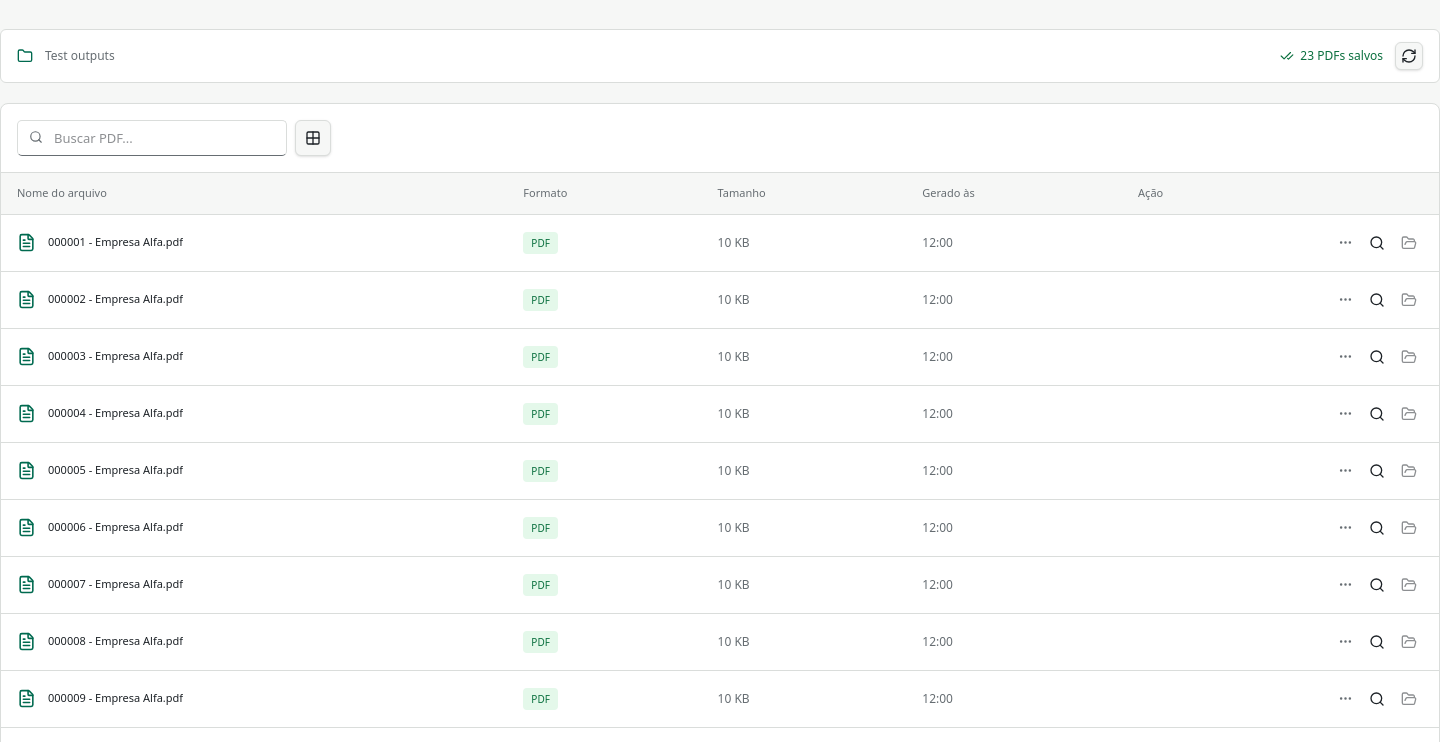
Test: Output pagination › resets pagination when searching, clearing or changing page size, including no results
Earlier steps of the test are not shown.
Type "Alfa" into the search field named "Buscar arquivos PDF" at (152, 138), box 17,120 -> 287,156
(page scrolled)
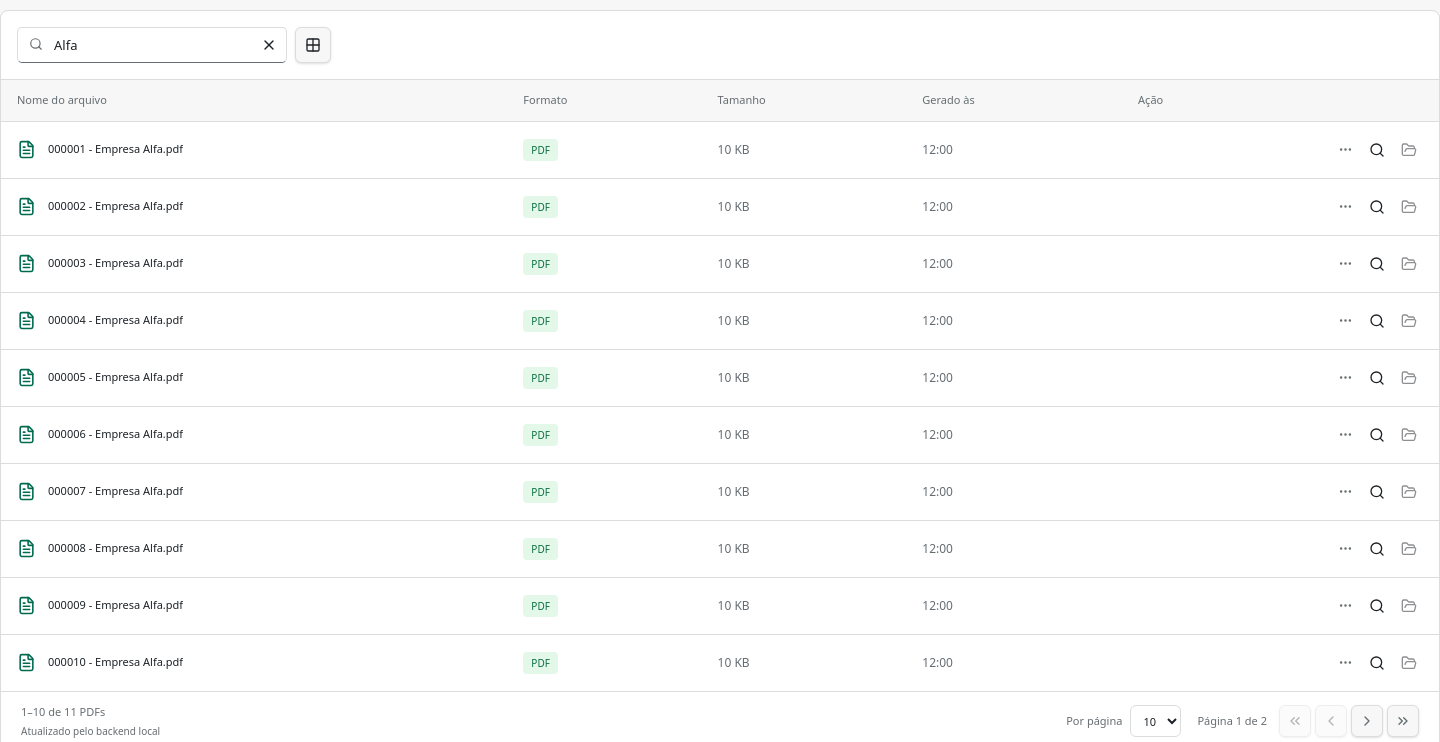
Click the button named "Próxima página" at (1367, 721), box 1351,705 -> 1383,737
(page scrolled)
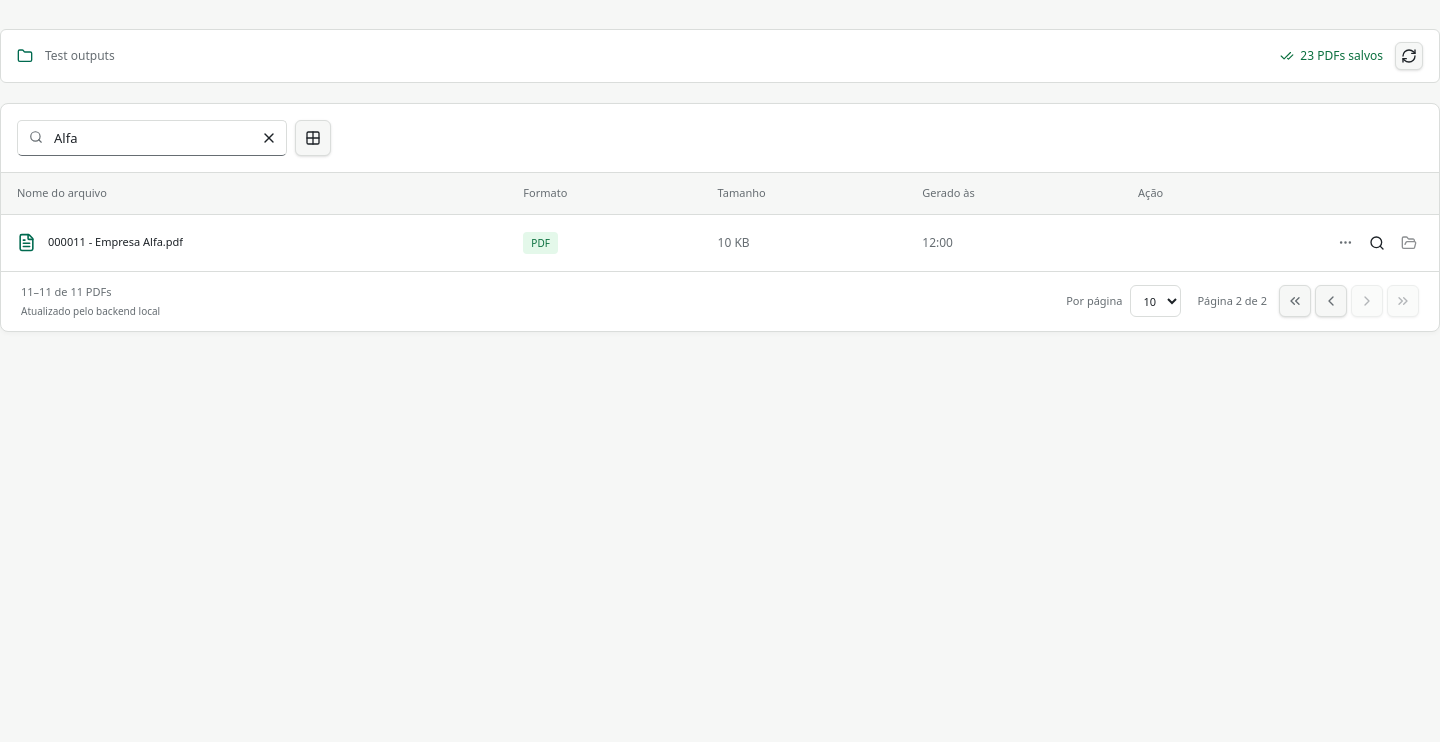
Press Escape in the search field named "Buscar arquivos PDF", box 17,120 -> 287,156
(page scrolled)
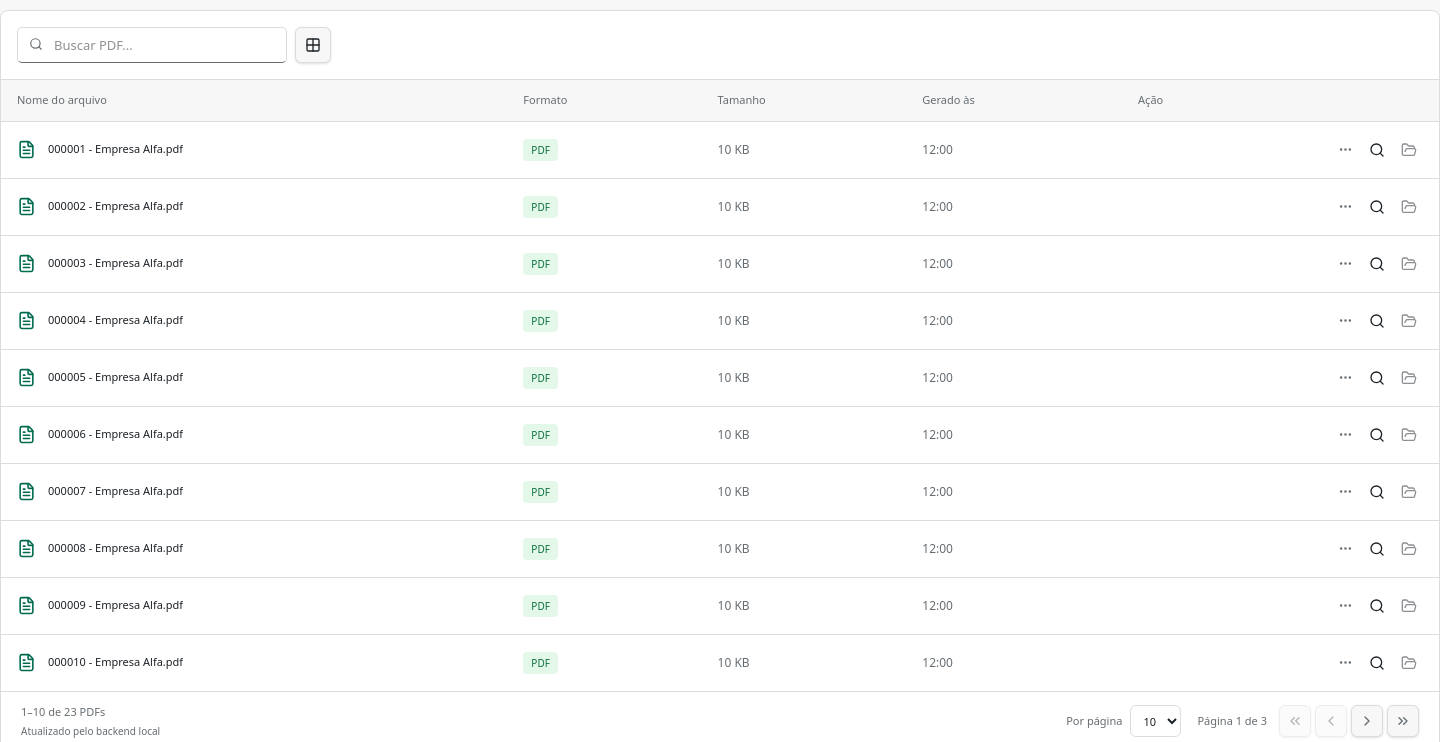
Now the text "1–10 de 23 PDFs" is shown, box 21,704 -> 105,718
Click the button named "Última página" at (1403, 721), box 1387,705 -> 1419,737
(page scrolled)
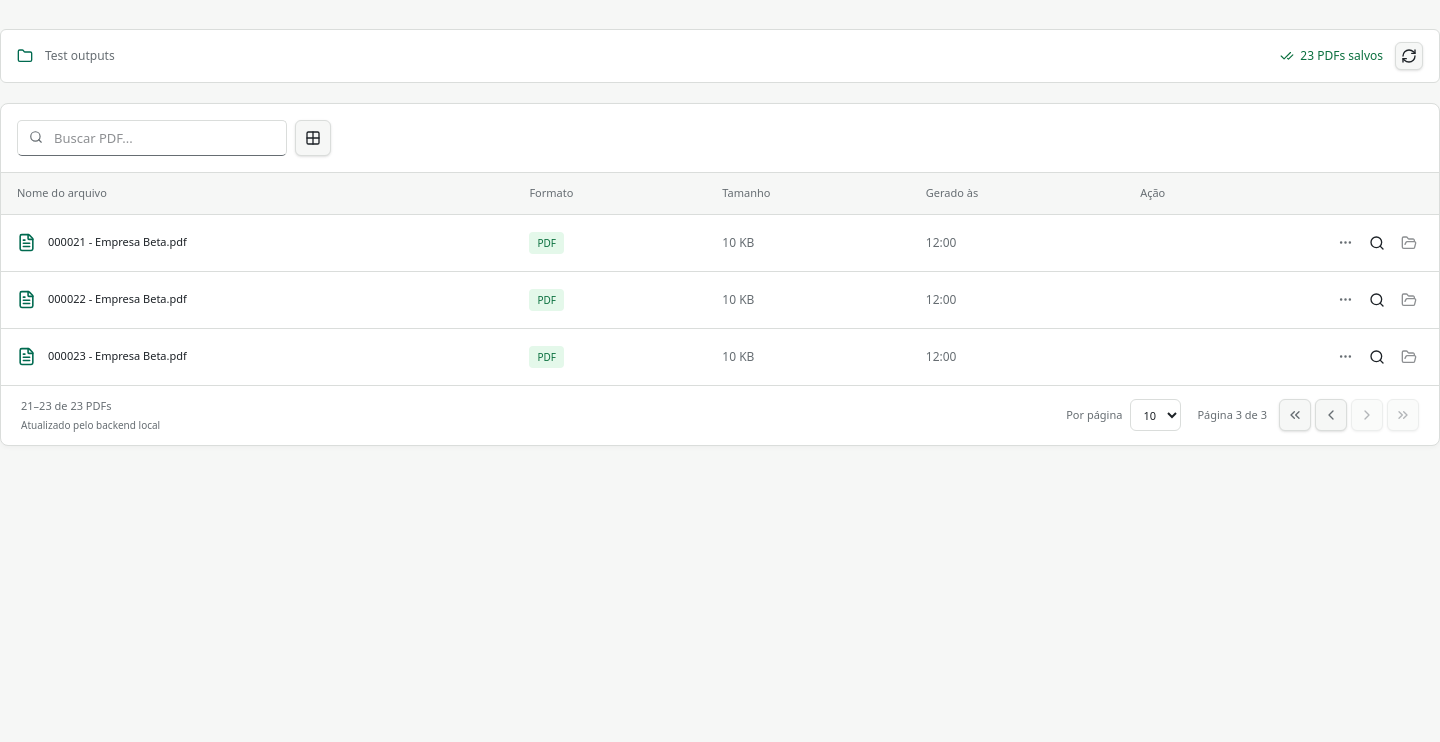
Select "25" in the dropdown named "Arquivos por página" at (1156, 415), box 1130,399 -> 1181,431
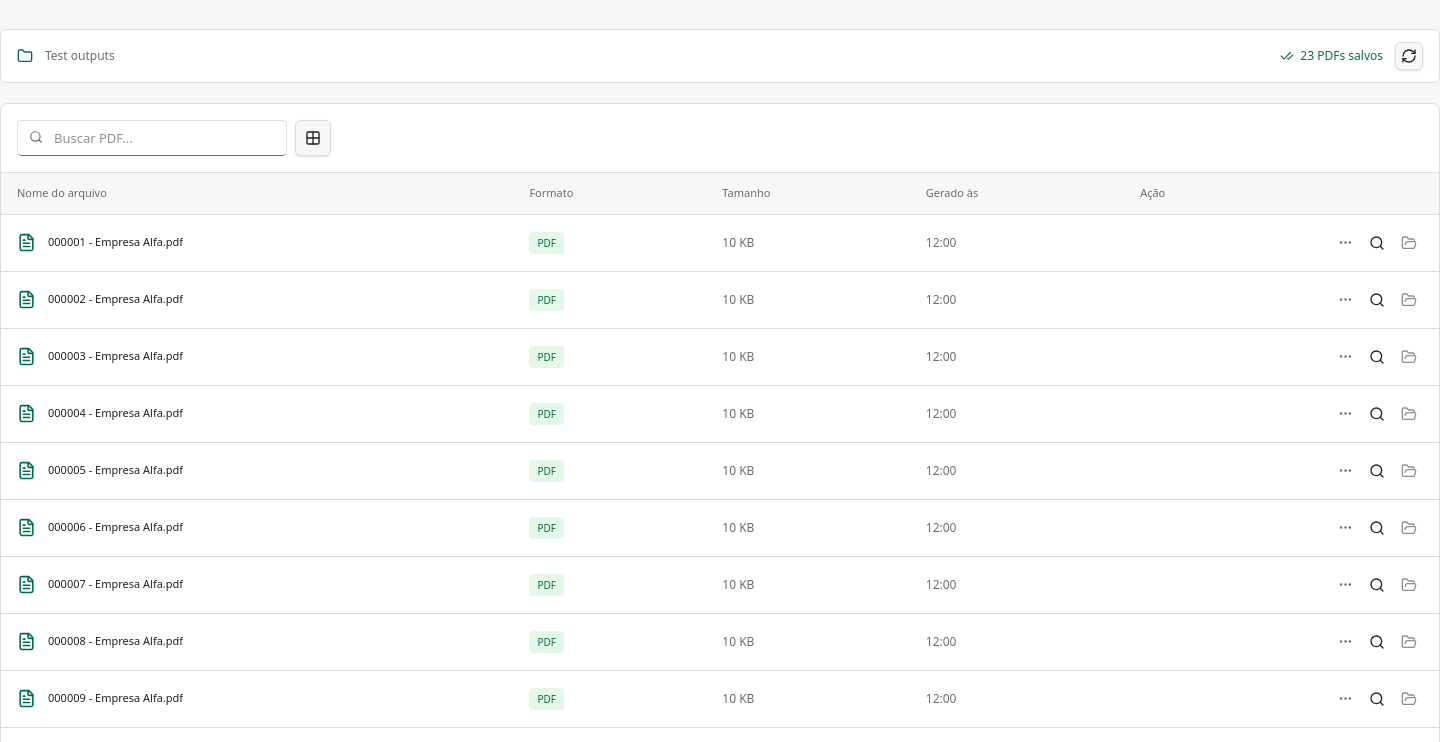
Type "Não existe" into the search field named "Buscar arquivos PDF" at (152, 138), box 17,120 -> 287,156
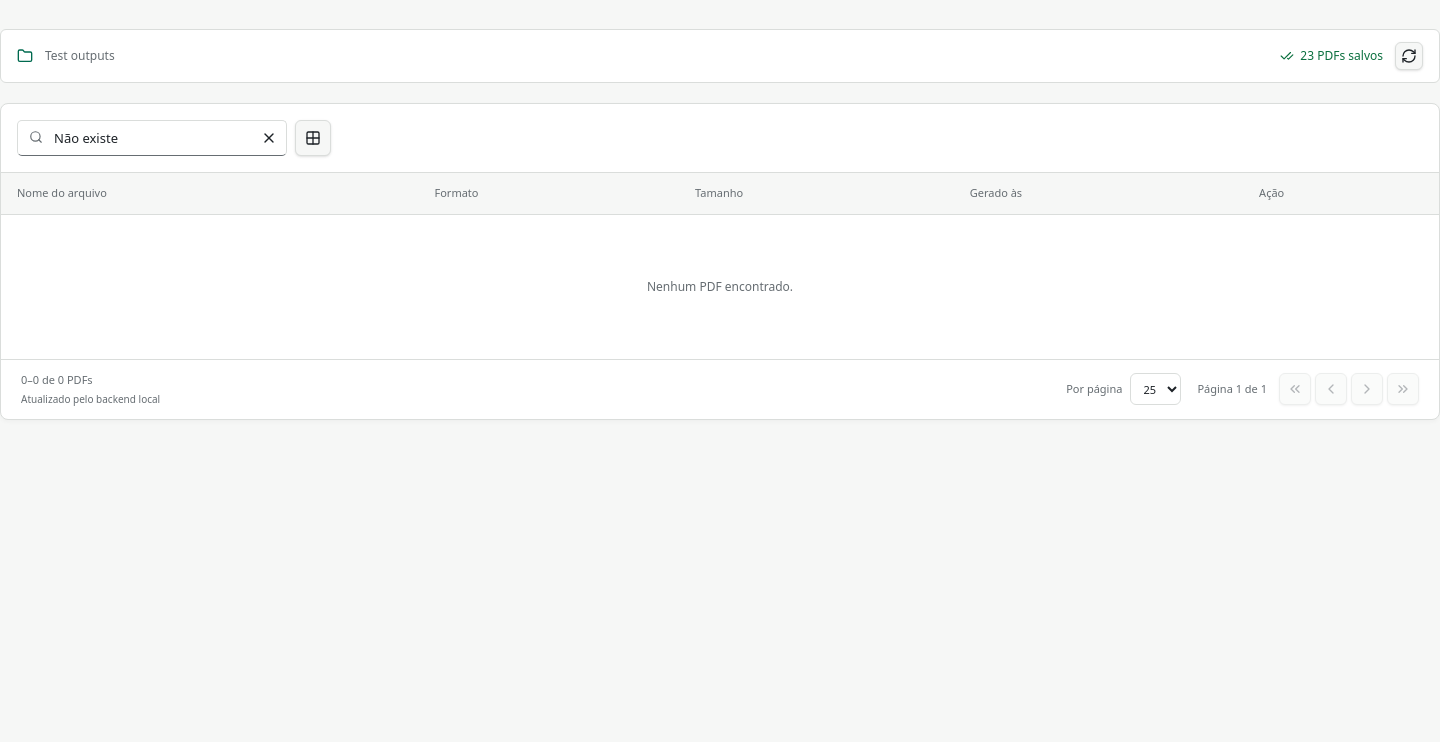
Now the text "Página 1 de 1" is shown, box 1197,381 -> 1267,398
Now the text "Nenhum PDF encontrado." is shown, box 647,278 -> 793,294
Now the text "0–0 de 0 PDFs" is shown, box 21,372 -> 93,386
